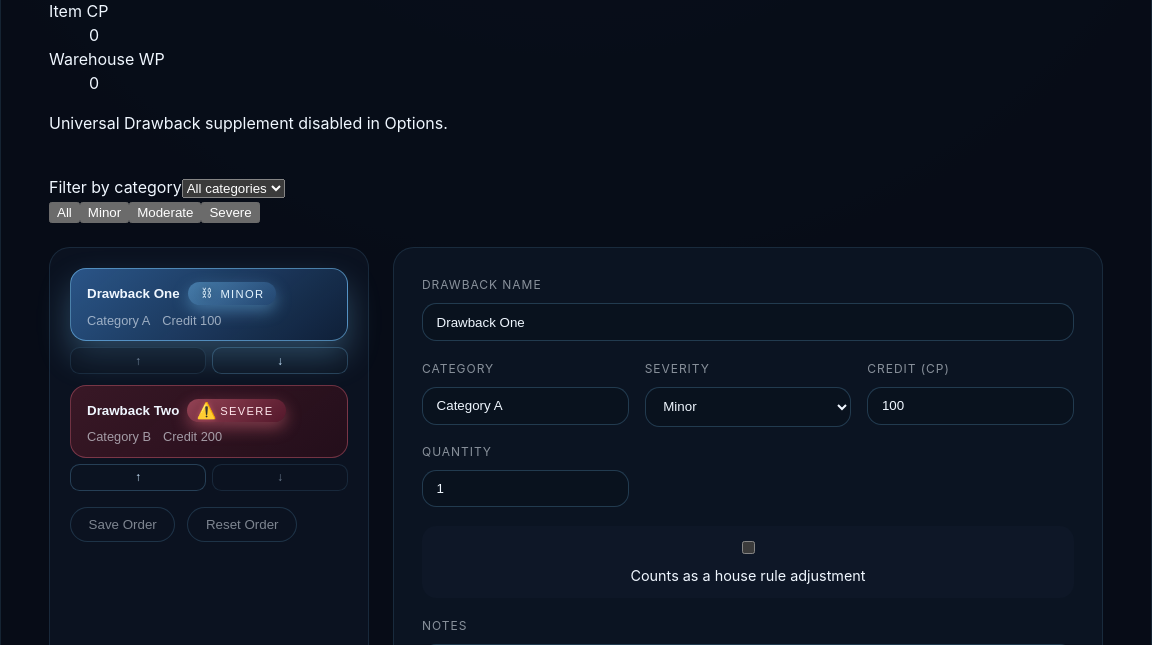
Test: DrawbackSupplement ordering › resets the local order when switching between jumps
(page scrolled)
Expected: the number of list items is 2, 70,268 -> 348,374; 70,385 -> 348,491
Expected: the list item "Drawback One Minor Category A Credit 100 ↑ ↓" is shown, 70,268 -> 348,374
Click the button named "Move Drawback One later" at (280, 360), box 212,347 -> 348,374
(page scrolled)
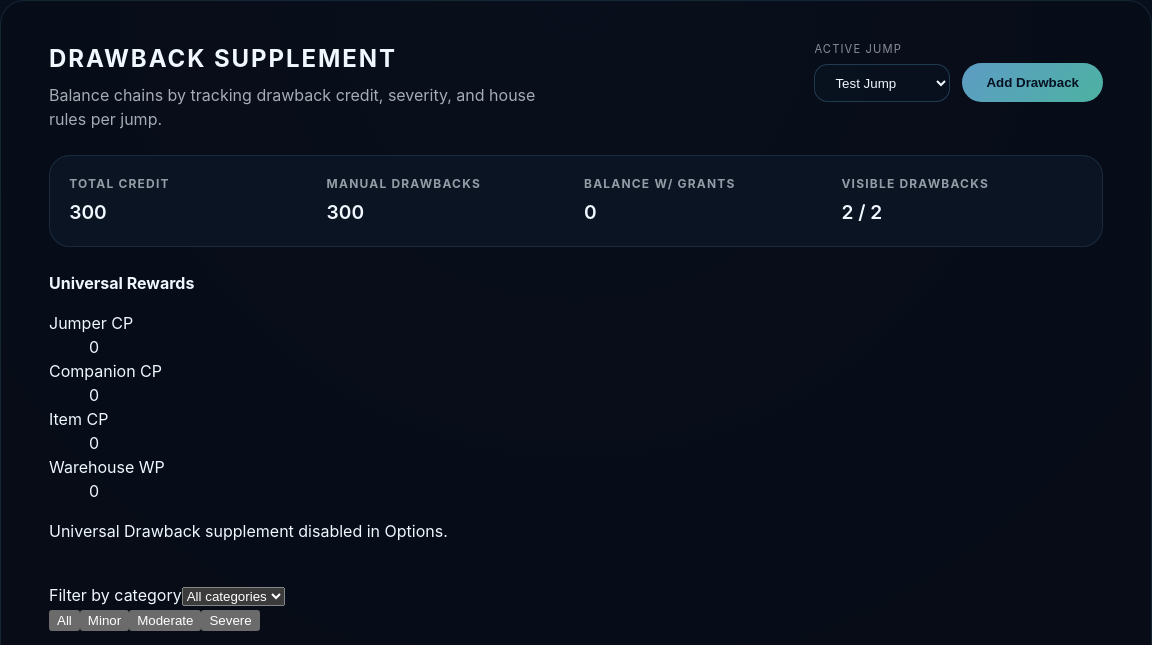
Select "Second Jump" in the dropdown labelled "Active Jump" at (882, 83), box 814,64 -> 950,102
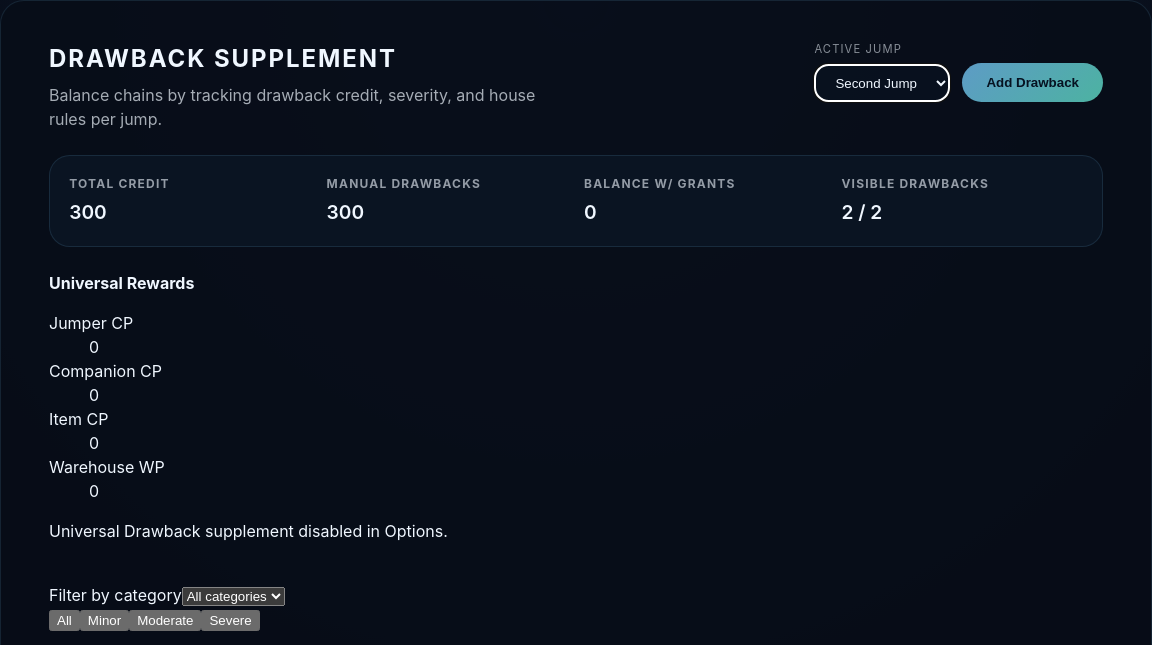
Select "Test Jump" in the dropdown labelled "Active Jump" at (882, 83), box 814,64 -> 950,102
(page scrolled)
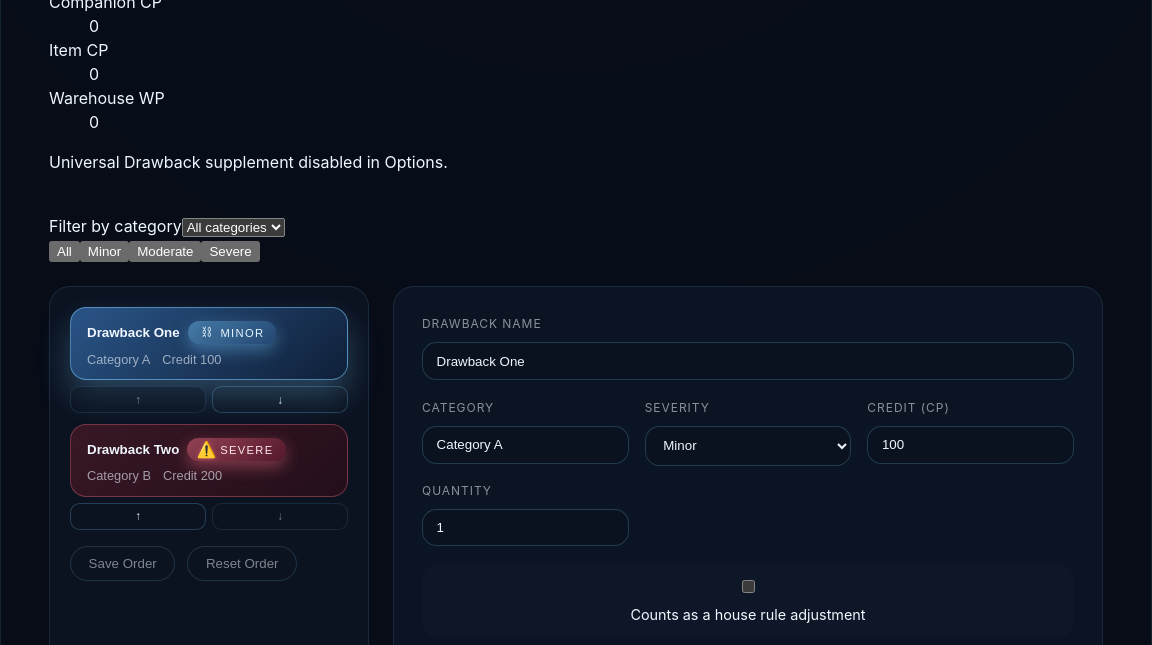
Result: the list item "Drawback One Minor Category A Credit 100 ↑ ↓" is shown at 70,307 -> 348,413
